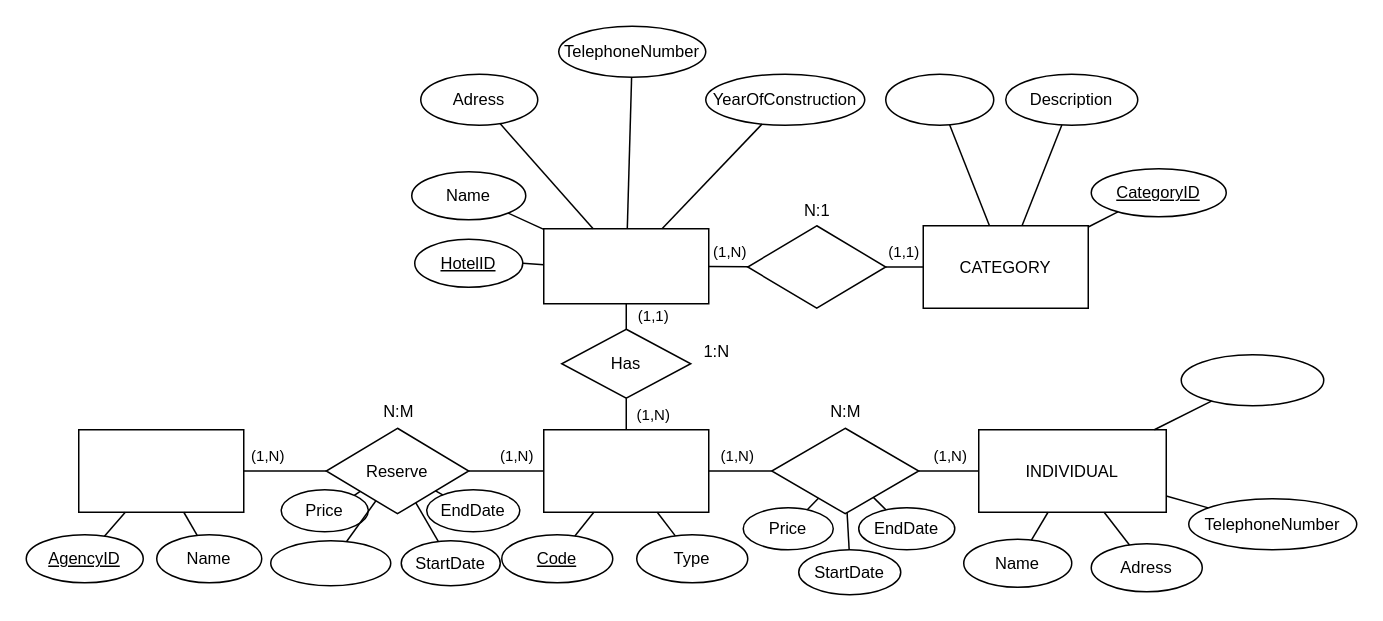
Some shapes in this 1383 by 621 pixel diagram are drawn without their labels. The shapes that lost their labels are listed below. From the top down, each one's centre as x and y in pixels, then its label:
(x=939, y=99): VATRate
(x=625, y=265): HOTEL
(x=816, y=266): ClassifiedIn
(x=1252, y=379): IndividualID
(x=160, y=470): TRAVEL AGENCY
(x=625, y=470): ROOM
(x=844, y=470): ReservedBy
(x=330, y=562): PersonName
